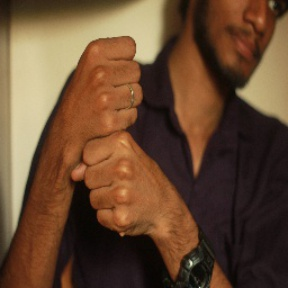G: (50, 31, 178, 241)
